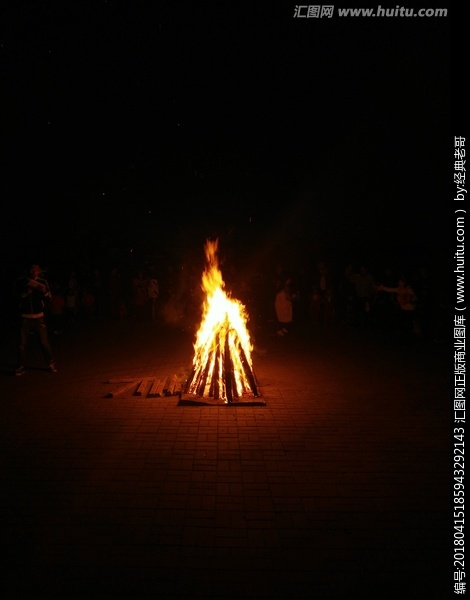fire: (189, 238, 253, 397)
